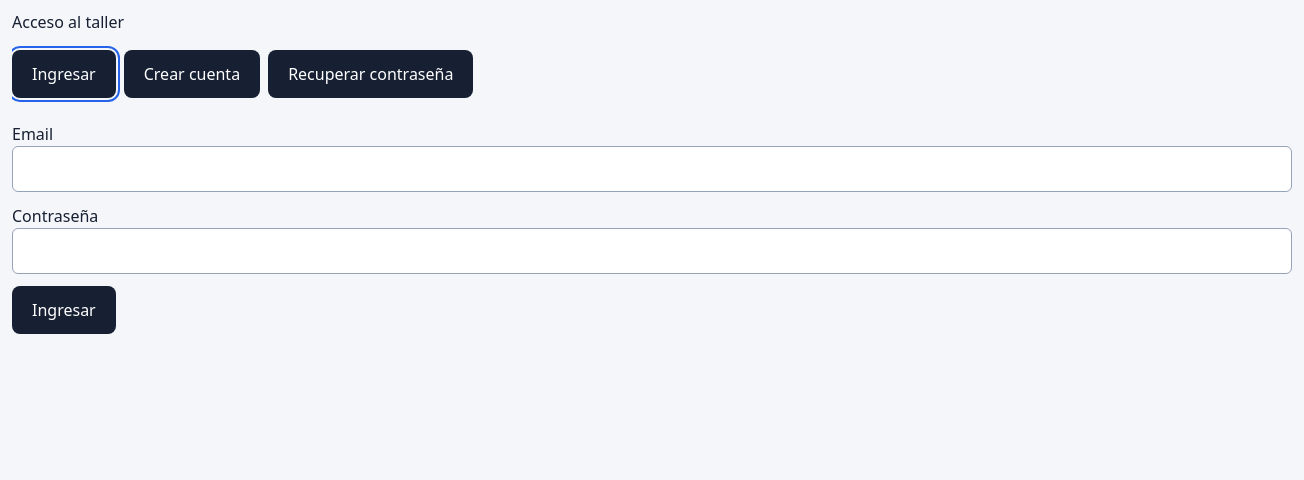
Test: Auth UI mínima, no tests RLS › registro usa confirmación de email sin entrar a un taller falso
Click the button "Crear cuenta" at x=192, y=74, box [124, 50, 260, 98]
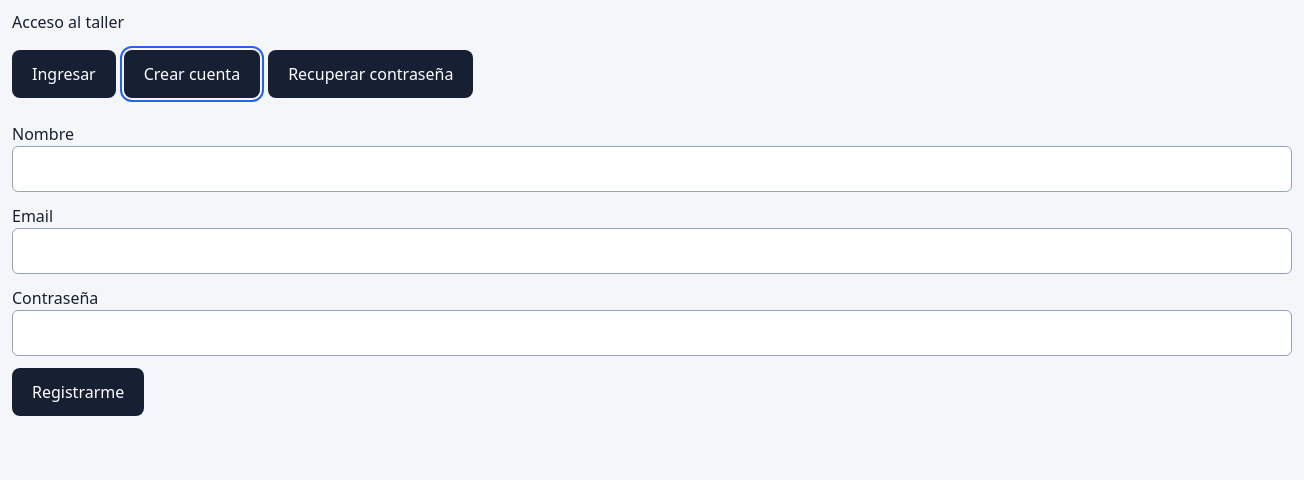
Type "Benjamín" into the field labelled "Nombre" at x=652, y=169, box [12, 146, 1292, 192]
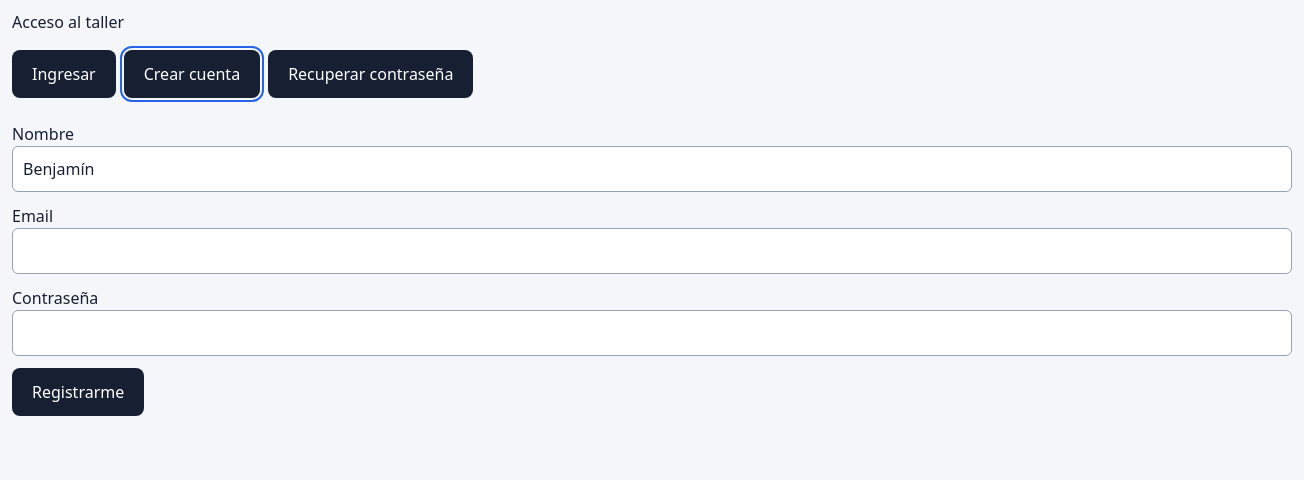
Type "user@example.test" into the field labelled "Email" at x=652, y=251, box [12, 228, 1292, 274]
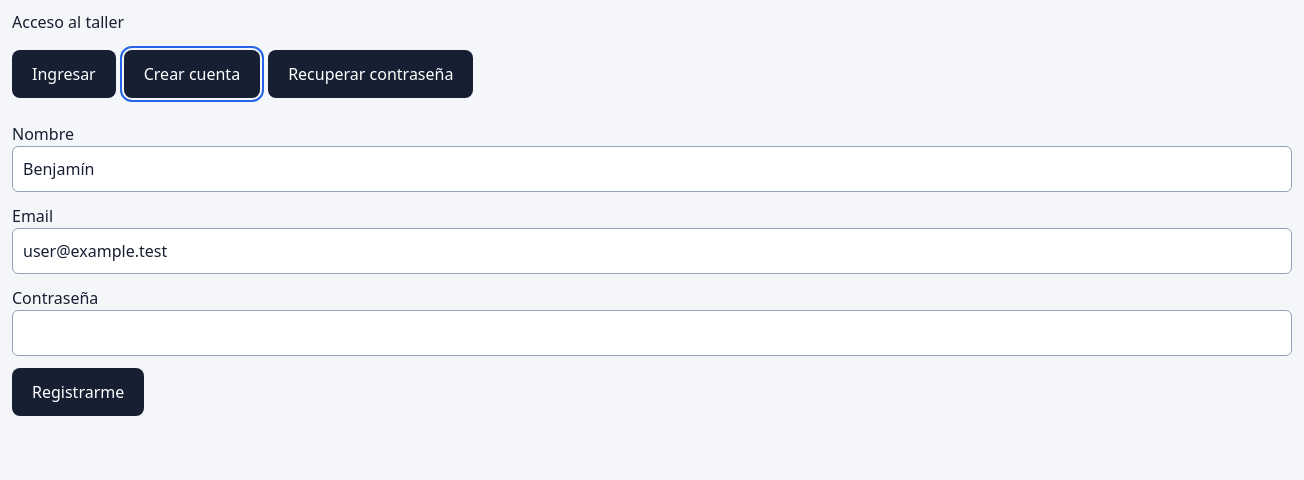
Type "Password-test-123" into the password field labelled "Contraseña" at x=652, y=333, box [12, 310, 1292, 356]
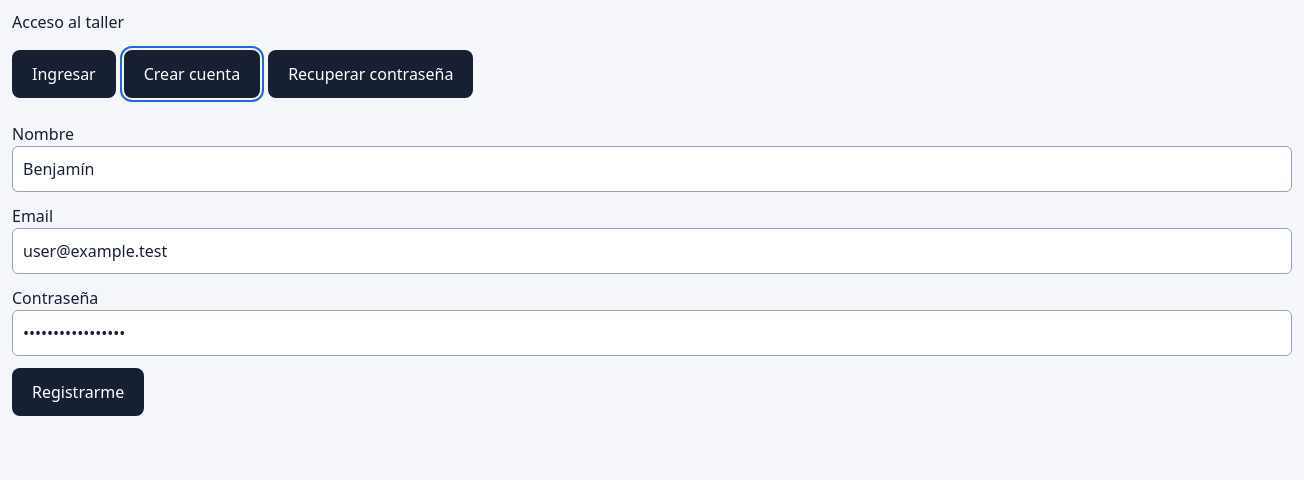
Click the button "Registrarme" at x=78, y=392, box [12, 368, 144, 416]
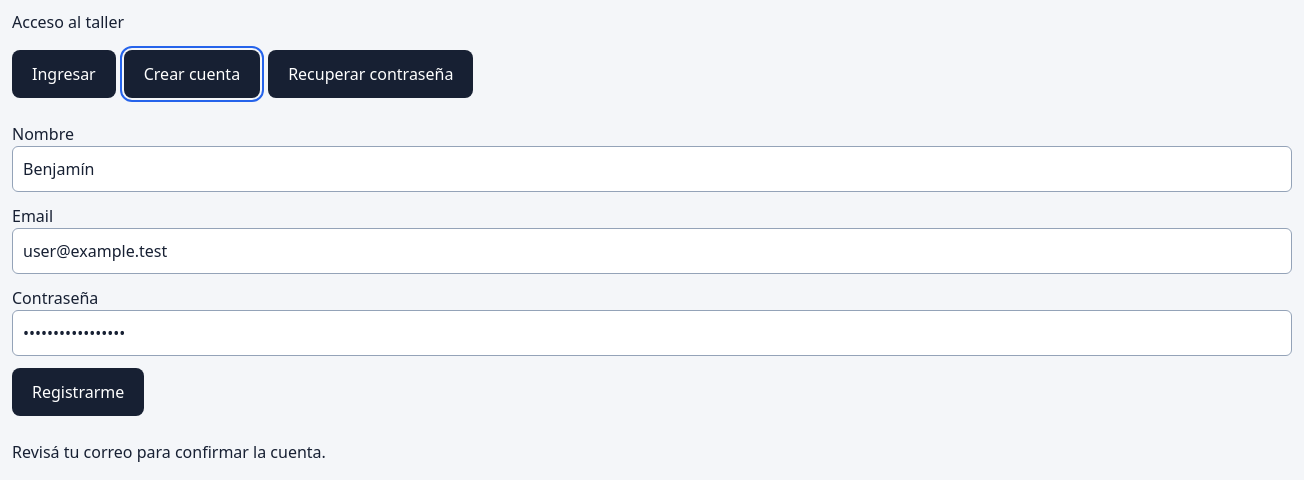
Result: the text "Revisá tu correo para confirmar la cuenta." is shown at [12, 441, 326, 463]
